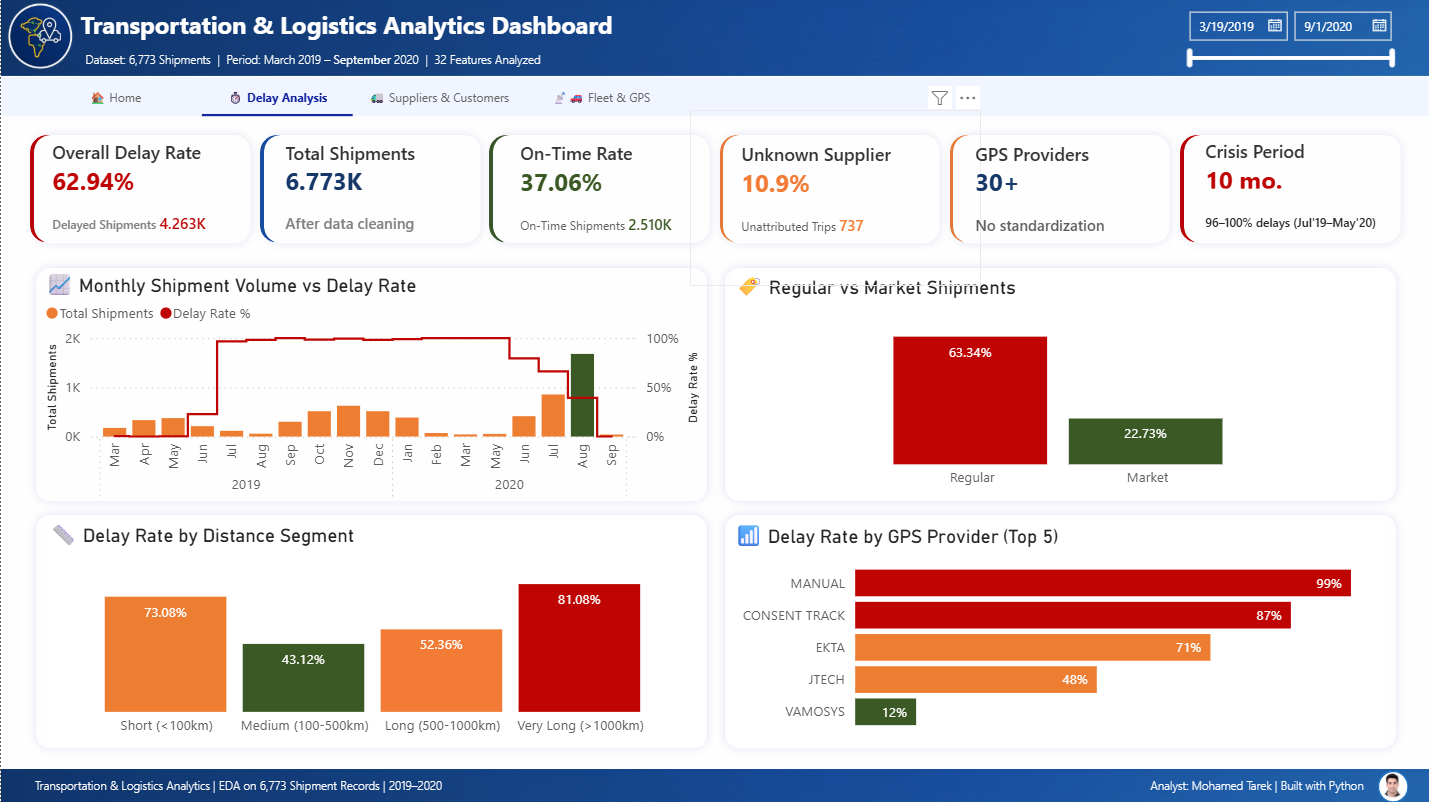

This screenshot's page, from the dashboard's own definition file:
{"tool":"powerbi","page":{"name":"⏱️ Delay Analysis","canvas":[1280,720],"ordinal":1},"visuals":[{"type":"shape","box":[0,69,1280,35.4],"z":0},{"type":"shape","box":[23.3,231.8,617,225],"z":1000},{"type":"shape","box":[640.4,232,617,224.8],"z":2000},{"type":"shape","box":[23.3,453.1,617,225],"z":3000},{"type":"shape","box":[640.3,453.1,617,225],"z":4000},{"type":"image","box":[0,688.7,1279.7,31.3],"z":5000},{"type":"textbox","box":[23.3,688.7,378.8,31.3],"z":6000},{"type":"image","box":[0,0,1279.7,68.1],"z":7000},{"type":"shape","box":[13.4,9.7,45.7,43.9],"z":8000},{"type":"textbox","box":[66.3,2.7,598.2,51],"z":9000},{"type":"textbox","box":[70.7,38.5,440.6,34],"z":10000},{"type":"textbox","box":[978.2,689.1,293.6,30.9],"z":11000},{"type":"shape","box":[1232.7,690,27.3,28.2],"z":12000},{"type":"image","box":[1223.6,687.9,45.7,30.7],"z":13000},{"type":"columnChart","title":"📏 Delay Rate by Distance Segment","fields":{"Y":["_Measures.Delay Rate %"],"Category":["transportation_logistic.distance_segment"]},"box":[38.2,465.3,590.6,201.8],"z":14000},{"type":"columnChart","title":"🏷️ Regular vs Market Shipments","fields":{"Y":["_Measures.Delay Rate %"],"Category":["transportation_logistic.Market_Regular"]},"box":[653.2,243.3,591.1,202.2],"z":15000},{"type":"clusteredBarChart","title":"📶 Delay Rate by GPS Provider (Top 5)","fields":{"Category":["logistics_cleaned.GpsProvider"],"Y":["_Measures.GpsProvider_Delay_Rate_Over_100"]},"box":[652.2,466.7,591.1,200],"z":16000},{"type":"lineClusteredColumnComboChart","title":"📈 Monthly Shipment Volume vs Delay Rate","fields":{"Y":["_Measures.Total Shipments"],"Category":["Calendar_Table.Year","Calendar_Table.MonthShortName"],"Y2":["_Measures.Delay Rate %"]},"box":[35,241.7,595,214.2],"z":17000},{"type":"shape","box":[26.2,121.2,192,96.2],"z":18000},{"type":"shape","box":[232,121.2,191.2,96.2],"z":19000},{"type":"shape","box":[437.1,121.2,192.5,96.2],"z":20000},{"type":"shape","box":[643.5,121.2,192.5,96.2],"z":21000},{"type":"shape","box":[849.8,121.2,192.5,96.2],"z":22000},{"type":"shape","box":[1056.2,121.2,192.5,96.2],"z":23000},{"type":"shape","box":[1051.4,112.9,210,113],"z":24000},{"type":"shape","box":[844.4,112.9,210,113],"z":25000},{"type":"shape","box":[638.4,112.9,210,113],"z":26000},{"type":"shape","box":[432.7,112.7,210,112.7],"z":27000},{"type":"shape","box":[227.4,112.9,210,113],"z":28000},{"type":"shape","box":[21.4,112.9,210,113],"z":29000},{"type":"cardVisual","title":"Overall Delay Rate","fields":{"Data":["_Measures.Delay Rate %"]},"box":[0,95.5,242.7,160],"z":30000},{"type":"cardVisual","title":"Total Shipments","fields":{"Data":["_Measures.Total Shipments"]},"box":[208.5,94.8,278,162],"z":31000},{"type":"cardVisual","title":"On-Time Deliveries","fields":{"Data":["_Measures.On-Time Rate %"]},"box":[419.1,96.4,232.7,160.9],"z":32000},{"type":"cardVisual","title":"Unknown Supplier","fields":{"Data":["_Measures.Unknown Supplier %"]},"box":[617.5,98.8,260,157],"z":33000},{"type":"cardVisual","title":"Crisis Period","fields":{"Data":["_Measures.Crisis Period Duration"]},"box":[1032.7,94.5,247.3,158.2],"z":34000},{"type":"cardVisual","title":"Crisis Period","fields":{"Data":["_Measures.GPS Providers Count"]},"box":[826.5,95.8,216,163],"z":35000},{"type":"image","box":[1.7,0,66.7,67.5],"z":36000},{"type":"pageNavigator","title":"📊 Overview","box":[34.7,68,571.3,36],"z":37000},{"type":"slicer","fields":{"Values":["Calendar_Table.Date"]},"box":[1051.3,5.3,210,63.3],"z":38000}]}

Visuals, with their boxes in screenshot pixels (x1, y1, x2, y2), scaled from the page's 1280x720 canvas onto the 1429x802 screenshot:
shape: locate(0, 77, 1428, 116)
shape: locate(26, 258, 715, 509)
shape: locate(715, 258, 1404, 509)
shape: locate(26, 505, 715, 755)
shape: locate(715, 505, 1404, 755)
image: locate(0, 767, 1428, 801)
textbox: locate(26, 767, 449, 801)
image: locate(0, 0, 1428, 76)
shape: locate(15, 11, 66, 60)
textbox: locate(74, 3, 742, 60)
textbox: locate(79, 43, 571, 81)
textbox: locate(1092, 768, 1420, 801)
shape: locate(1376, 769, 1407, 800)
image: locate(1366, 766, 1417, 800)
"📏 Delay Rate by Distance Segment" columnChart: locate(43, 518, 702, 743)
"🏷️ Regular vs Market Shipments" columnChart: locate(729, 271, 1389, 496)
"📶 Delay Rate by GPS Provider (Top 5)" clusteredBarChart: locate(728, 520, 1388, 743)
"📈 Monthly Shipment Volume vs Delay Rate" lineClusteredColumnComboChart: locate(39, 269, 703, 508)
shape: locate(29, 135, 244, 242)
shape: locate(259, 135, 472, 242)
shape: locate(488, 135, 703, 242)
shape: locate(718, 135, 933, 242)
shape: locate(949, 135, 1164, 242)
shape: locate(1179, 135, 1394, 242)
shape: locate(1174, 126, 1408, 252)
shape: locate(943, 126, 1177, 252)
shape: locate(713, 126, 947, 252)
shape: locate(483, 126, 718, 251)
shape: locate(254, 126, 488, 252)
shape: locate(24, 126, 258, 252)
"Overall Delay Rate" cardVisual: locate(0, 106, 271, 285)
"Total Shipments" cardVisual: locate(233, 106, 543, 286)
"On-Time Deliveries" cardVisual: locate(468, 107, 728, 287)
"Unknown Supplier" cardVisual: locate(689, 110, 980, 285)
"Crisis Period" cardVisual: locate(1153, 105, 1428, 281)
"Crisis Period" cardVisual: locate(923, 107, 1164, 288)
image: locate(2, 0, 76, 75)
"📊 Overview" pageNavigator: locate(39, 76, 677, 116)
slicer - Calendar_Table.Date: locate(1174, 6, 1408, 76)
